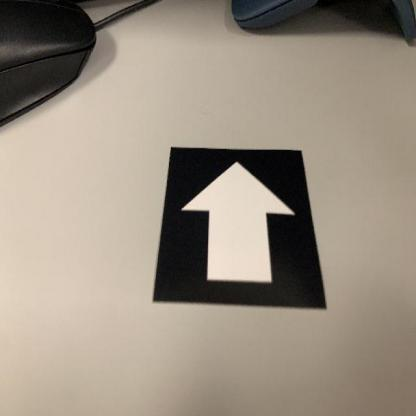up: (149, 143, 329, 314)
